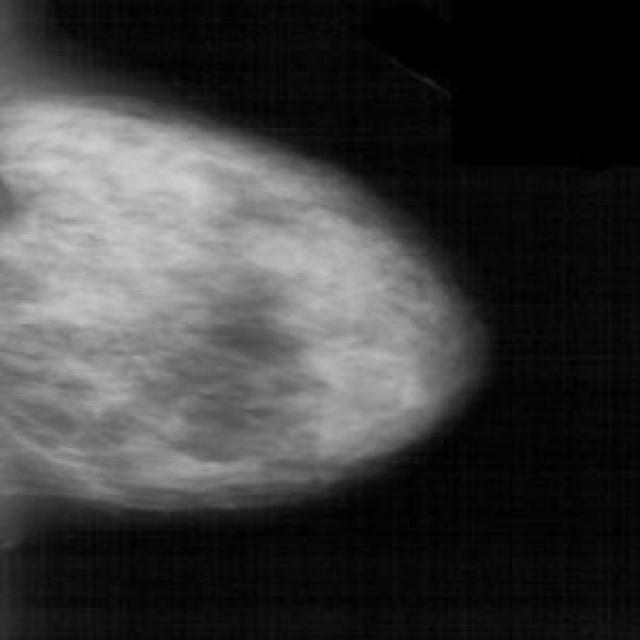tumor: (245, 212, 422, 439), (13, 126, 185, 346)
